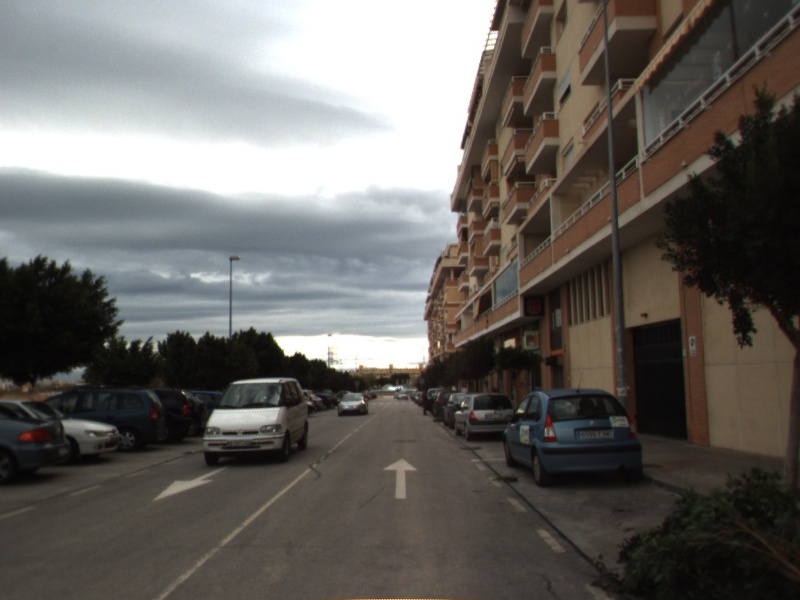STRAIGHT: (381, 456, 420, 501)
